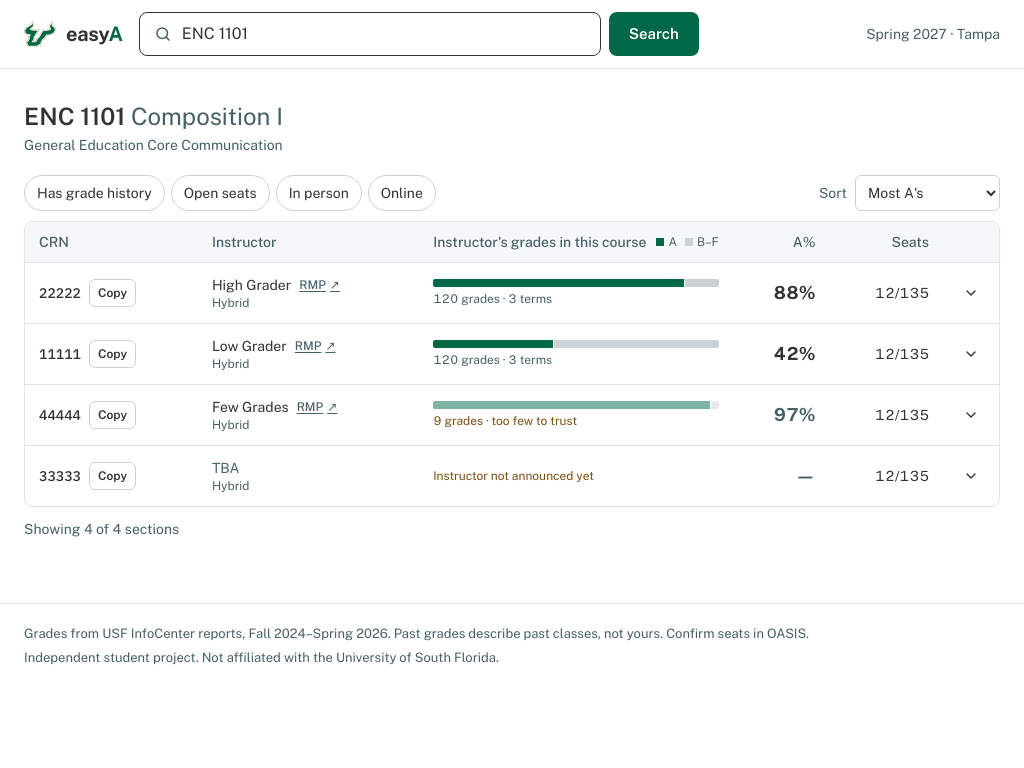
Test case: course search › filters to sections whose instructor has grade history
Expected: the table is shown, [25,222,999,506]
Click the button "Has grade history": (94, 193) [24,175,165,211]
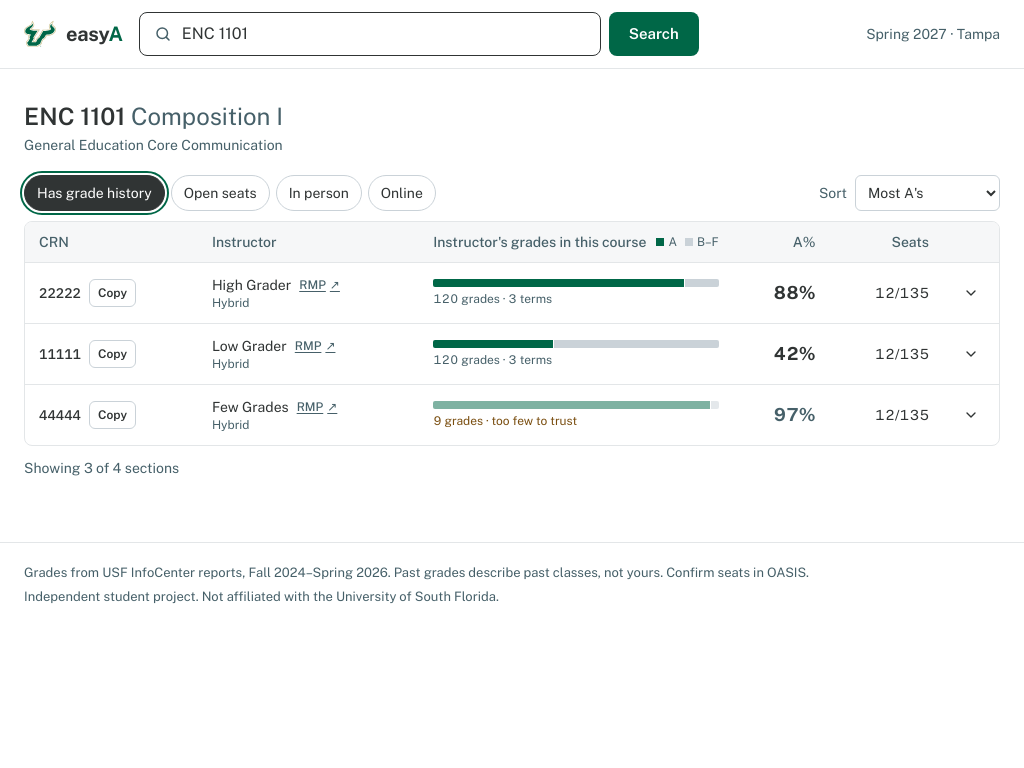
Result: the message reads "Showing 3 of 4 sections" at [24,460,179,476]
